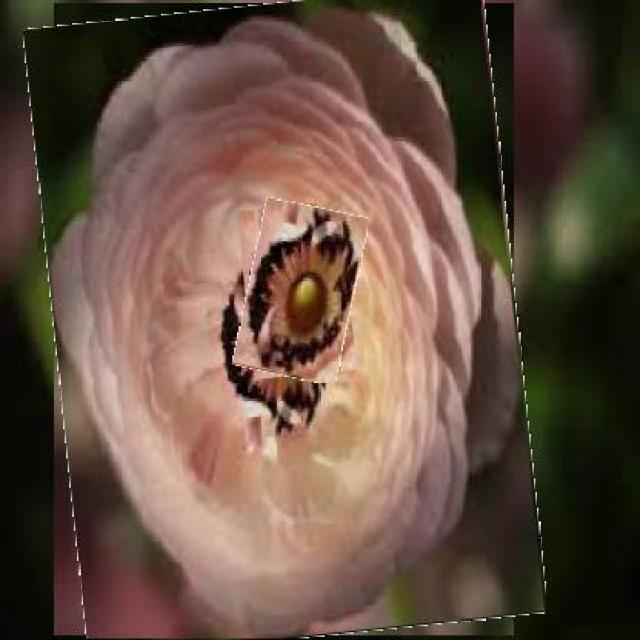Flower: (241, 202, 362, 382)
